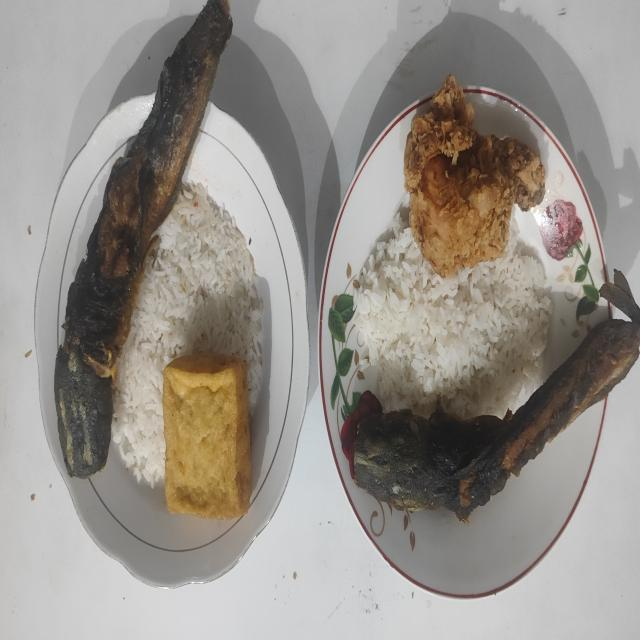nasi_putih: (112, 180, 264, 488), (354, 212, 554, 420)
tahu_goreng: (162, 353, 252, 520)
